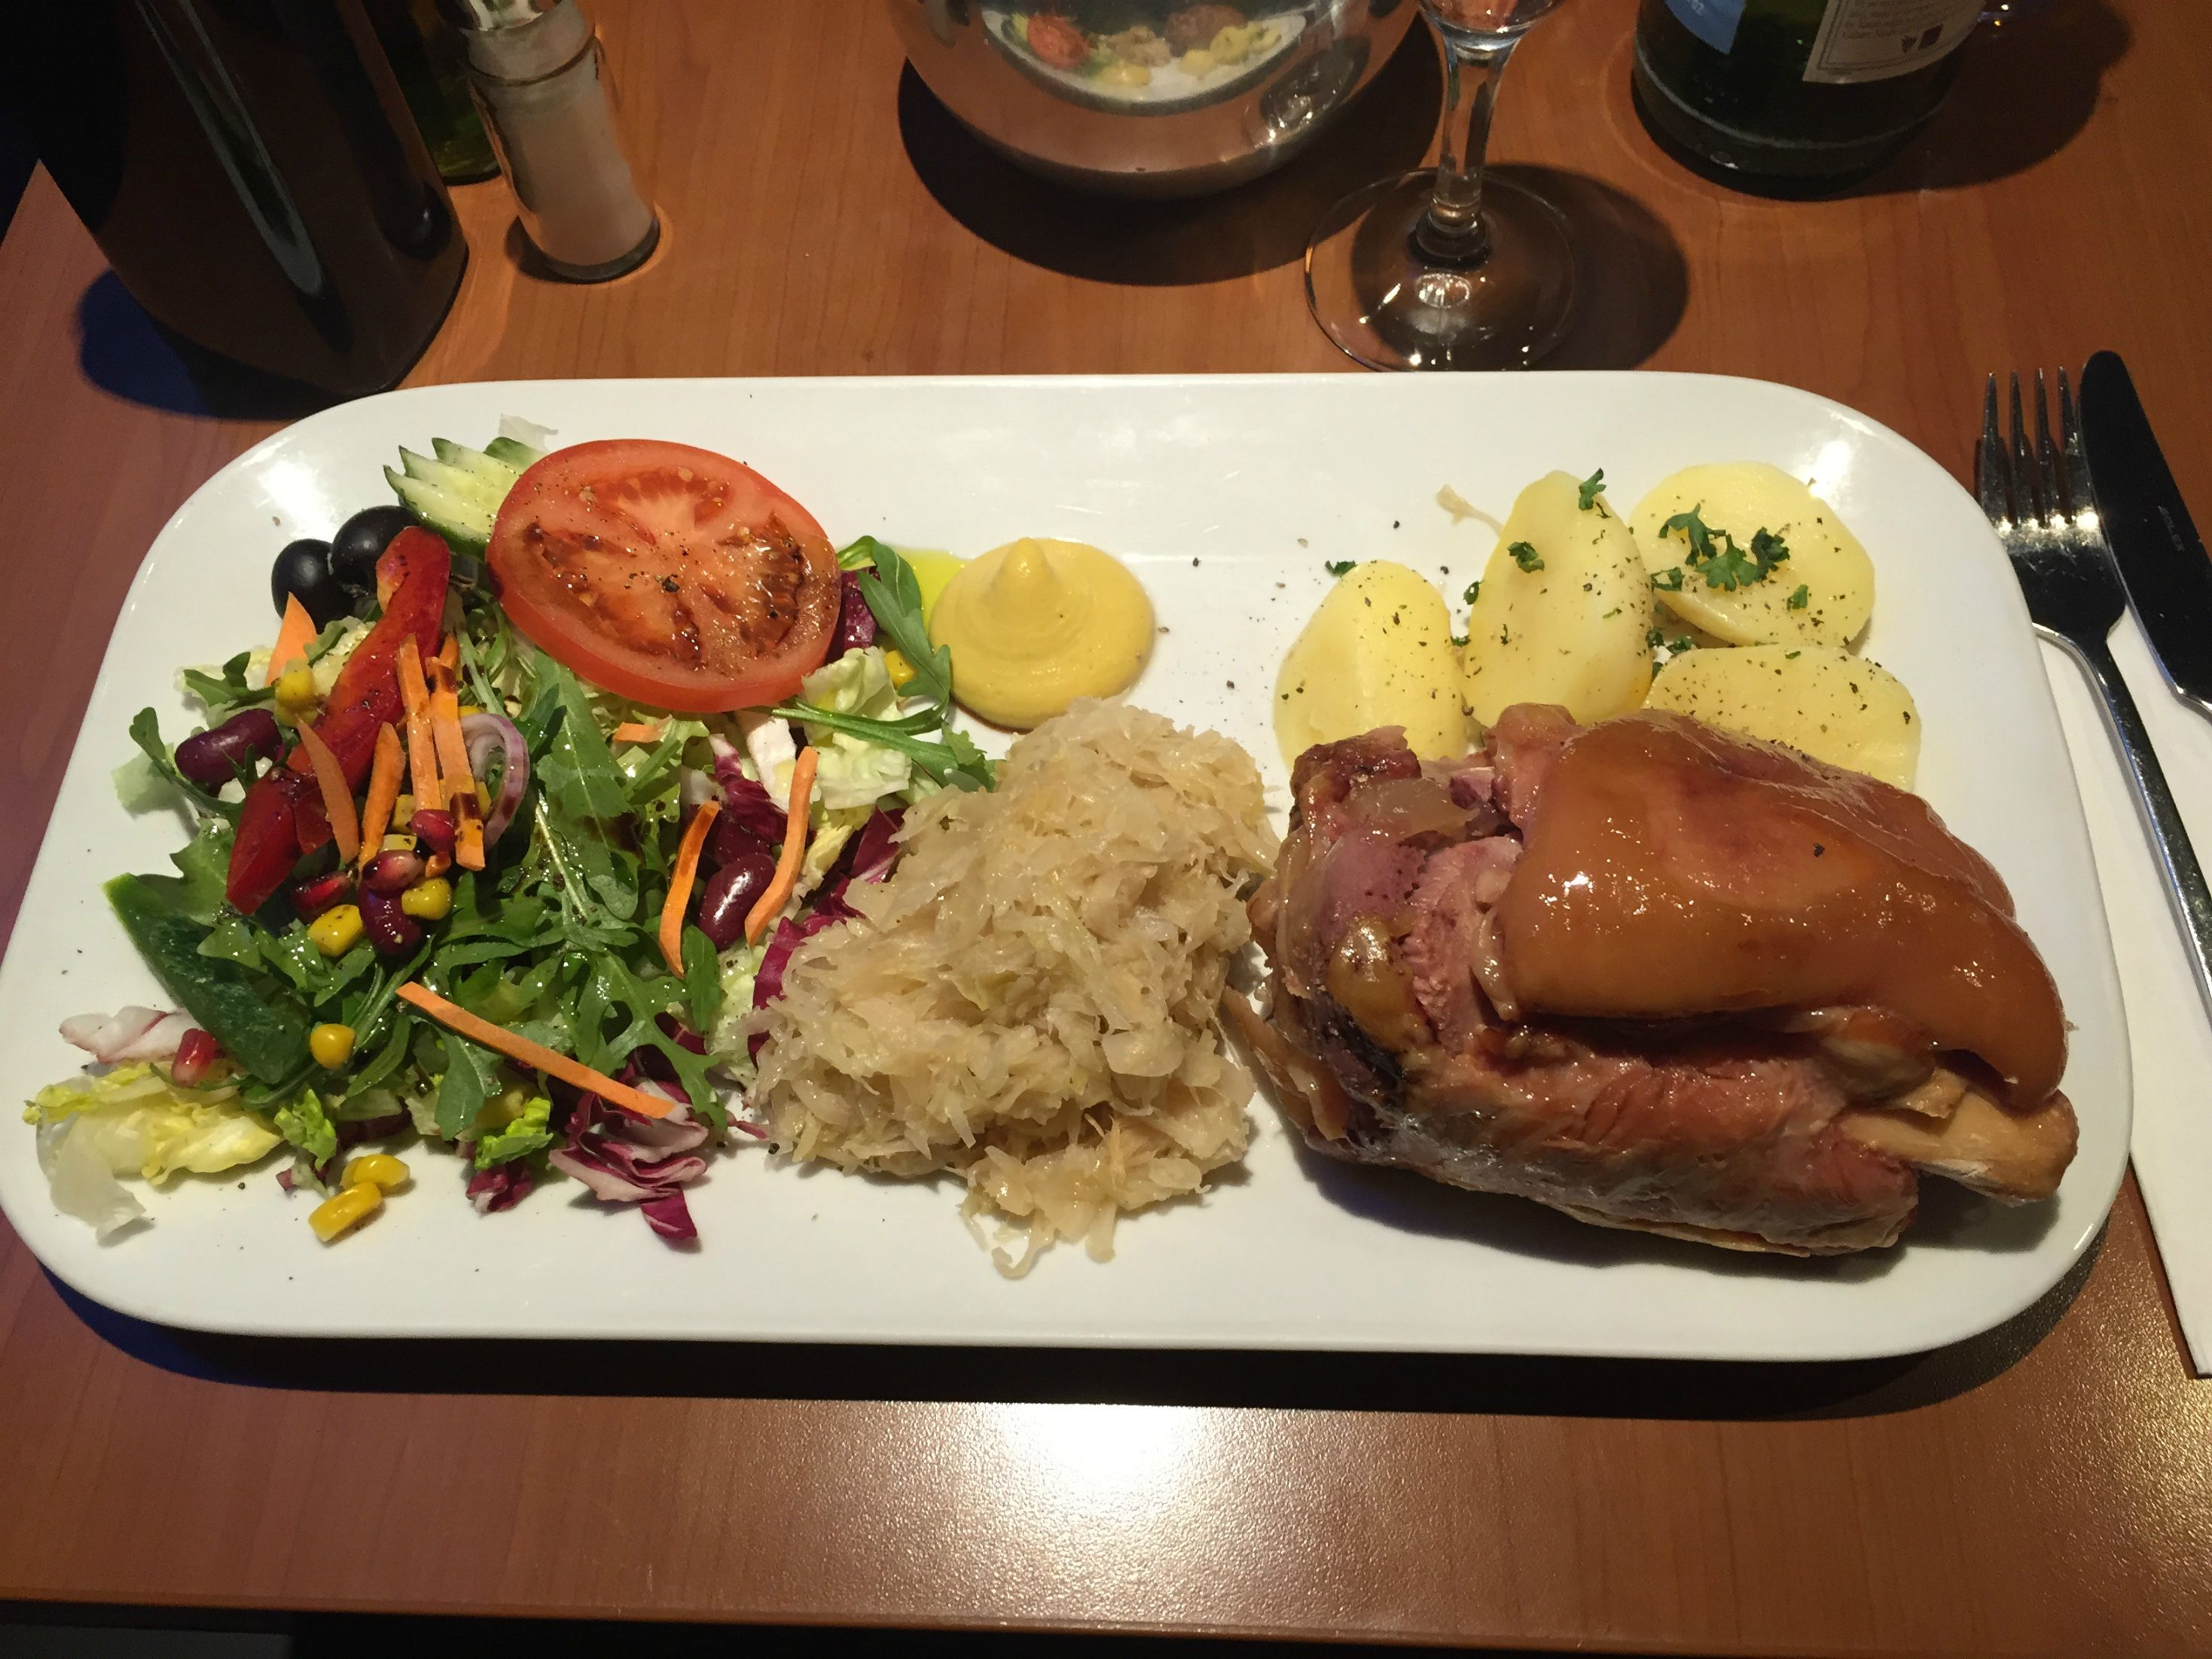boiled potatoes: (1255, 483, 2025, 802)
